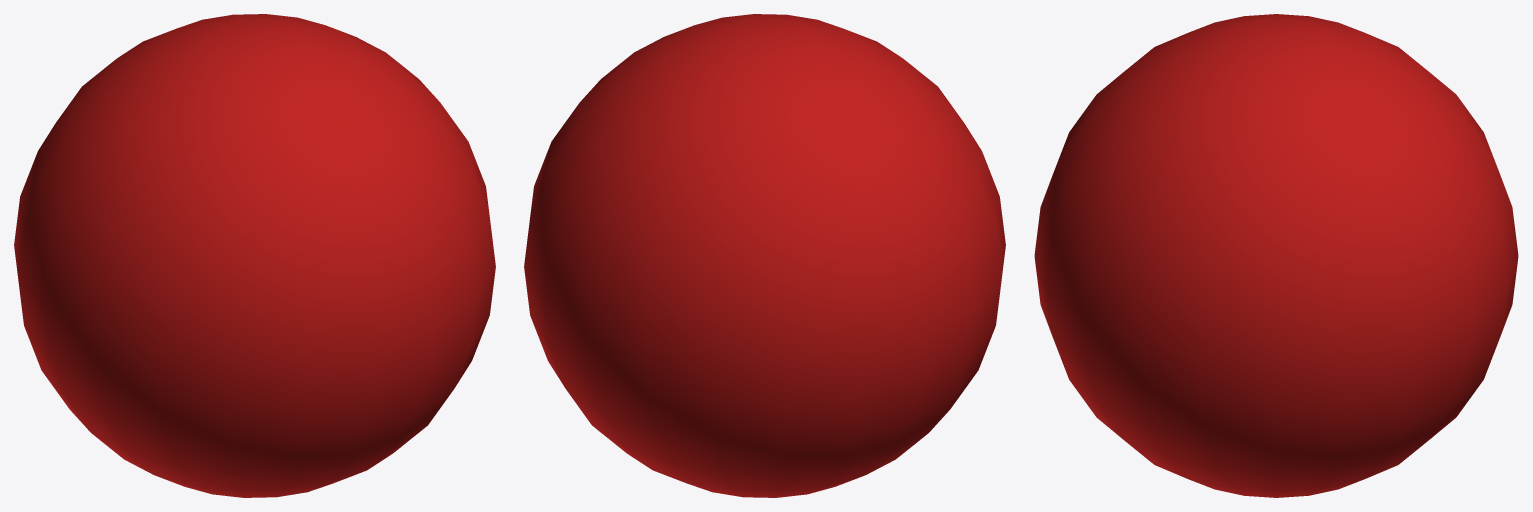
File: kickball.obj
The picture shows the model from 3 angles, left to right: view 1: azimuth 30°, elevation 25°; view 2: azimuth 150°, elevation 25°; view 3: azimuth 270°, elevation 25°; orthographic projection.
Visible parts, largest first — view 1: Kickball; view 2: Kickball; view 3: Kickball.
Boxes of the visible parts, x1,y1,x2,y2 form: Kickball: (14, 14, 495, 497); Kickball: (524, 14, 1005, 497); Kickball: (1034, 14, 1518, 497).
Bounding box in the file's own units: 2.54 × 2.54 × 2.54.
